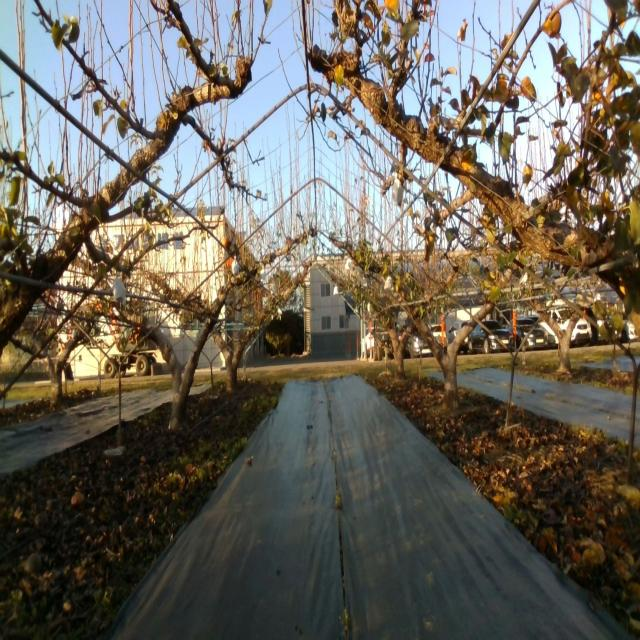pearbags: (112, 272, 127, 305), (391, 172, 403, 209)
